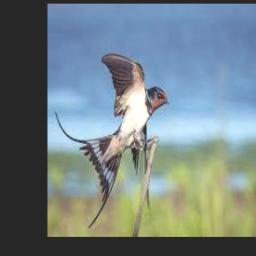Swallow: (55, 54, 168, 230)
